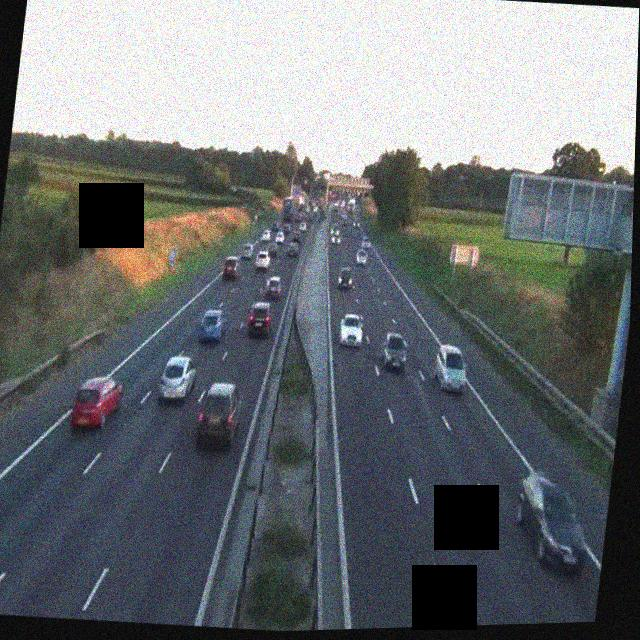car: (510, 469, 594, 576), (195, 379, 244, 448), (69, 374, 123, 433), (156, 351, 198, 404), (430, 341, 470, 393), (378, 330, 408, 372), (247, 296, 274, 337), (197, 306, 227, 342), (337, 312, 364, 348), (263, 274, 282, 300), (221, 255, 239, 280), (337, 266, 353, 290), (255, 250, 271, 270), (355, 244, 370, 265), (240, 242, 254, 261), (329, 228, 341, 244), (285, 242, 297, 257), (276, 229, 286, 244), (294, 227, 303, 241)
truck: (280, 196, 294, 224)
